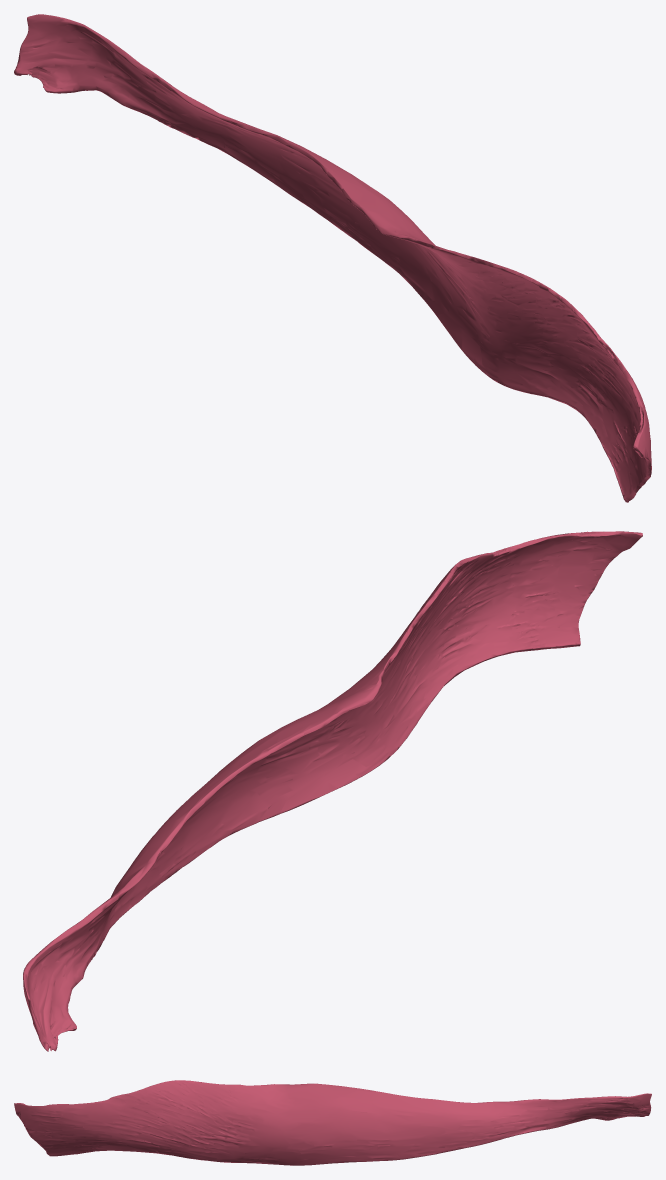
The picture shows the model from 3 angles, top to bottom: view 1: azimuth 30°, elevation 25°; view 2: azimuth 150°, elevation 25°; view 3: azimuth 270°, elevation 25°; orthographic projection. The views are drawn at different scales.
Visible parts, largest first — view 1: 左侧髂胫束; view 2: 左侧髂胫束; view 3: 左侧髂胫束.
Part boxes in pixels (x1,y1,x2,y2): 左侧髂胫束: (14,14,651,502); 左侧髂胫束: (23,531,642,1051); 左侧髂胫束: (14,1080,651,1165).
Bounding box in the file's own units: 0.1052 × 0.1203 × 0.8919.
